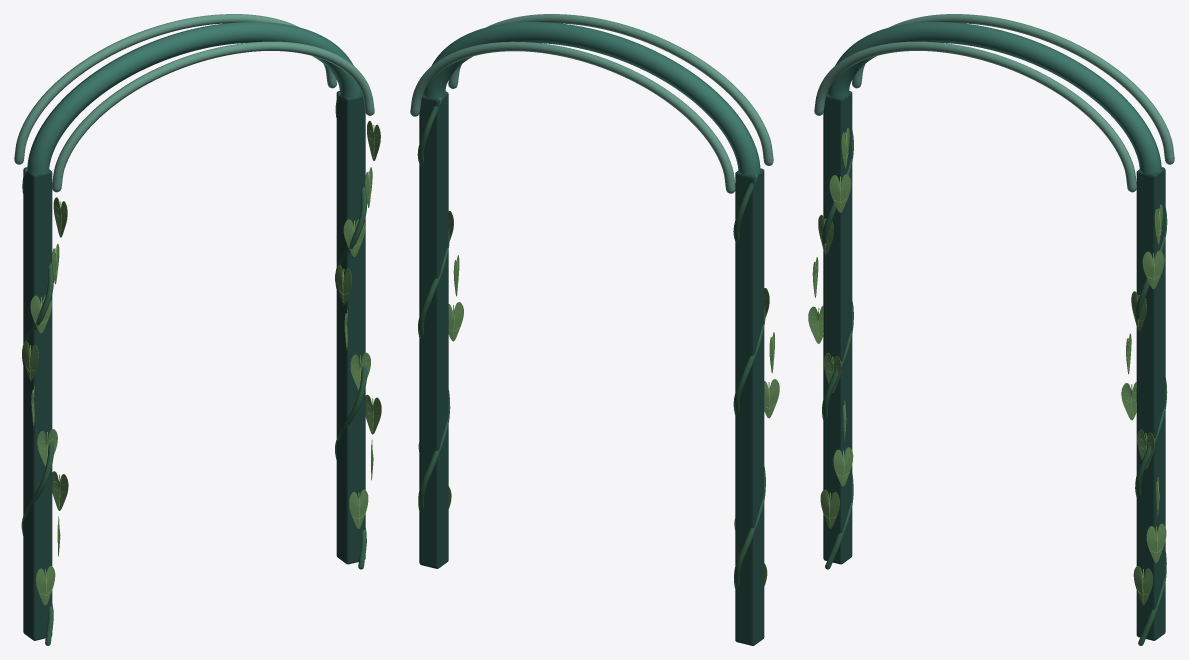
File: garden_arch.glb
3 views of the same model, side by side, from view 1: azimuth 30°, elevation 25°; view 2: azimuth 150°, elevation 25°; view 3: azimuth 330°, elevation 25° (orthographic).
Visible parts, largest first — view 1: Timber_post, Timber_post.001, Arched_top, Arch_depth.001, Arch_depth, Climbing_vine, Climbing_vine.001, Broad_shaped_leaf, Broad_shaped_leaf.009; view 2: Timber_post, Timber_post.001, Arched_top, Arch_depth, Arch_depth.001, Climbing_vine, Climbing_vine.001; view 3: Timber_post, Timber_post.001, Arched_top, Arch_depth.001, Arch_depth, Climbing_vine.001, Climbing_vine, Broad_shaped_leaf.016, Broad_shaped_leaf.007, Broad_shaped_leaf.010, Broad_shaped_leaf.001, Broad_shaped_leaf.009 (+1 smaller).
Boxes of the visible parts, x1,y1,x2,y2 form: Timber_post: (23,167,52,640); Timber_post.001: (336,91,365,564); Arched_top: (27,22,361,174); Arch_depth.001: (52,41,374,192); Arch_depth: (14,14,336,164); Climbing_vine: (21,168,53,645); Climbing_vine.001: (335,92,367,569); Broad_shaped_leaf: (36,566,55,605); Broad_shaped_leaf.009: (349,489,368,528); Timber_post: (735,168,764,645); Timber_post.001: (419,91,448,568); Arched_top: (423,22,760,175); Arch_depth: (410,41,735,193); Arch_depth.001: (448,14,773,165); Climbing_vine: (733,173,765,588); Climbing_vine.001: (417,97,450,511); Timber_post: (823,91,852,564); Timber_post.001: (1136,167,1165,640); Arched_top: (827,22,1161,174); Arch_depth.001: (814,41,1136,192); Arch_depth: (852,14,1174,164); Climbing_vine.001: (1135,208,1167,645); Climbing_vine: (822,130,853,569); Broad_shaped_leaf.016: (1142,250,1164,289); Broad_shaped_leaf.007: (829,174,851,212); Broad_shaped_leaf.010: (1146,523,1166,562); Broad_shaped_leaf.001: (833,447,853,486); Broad_shaped_leaf.009: (1133,566,1152,605).
Size of the model in its own units: 1.61 by 2.51 by 0.34.
